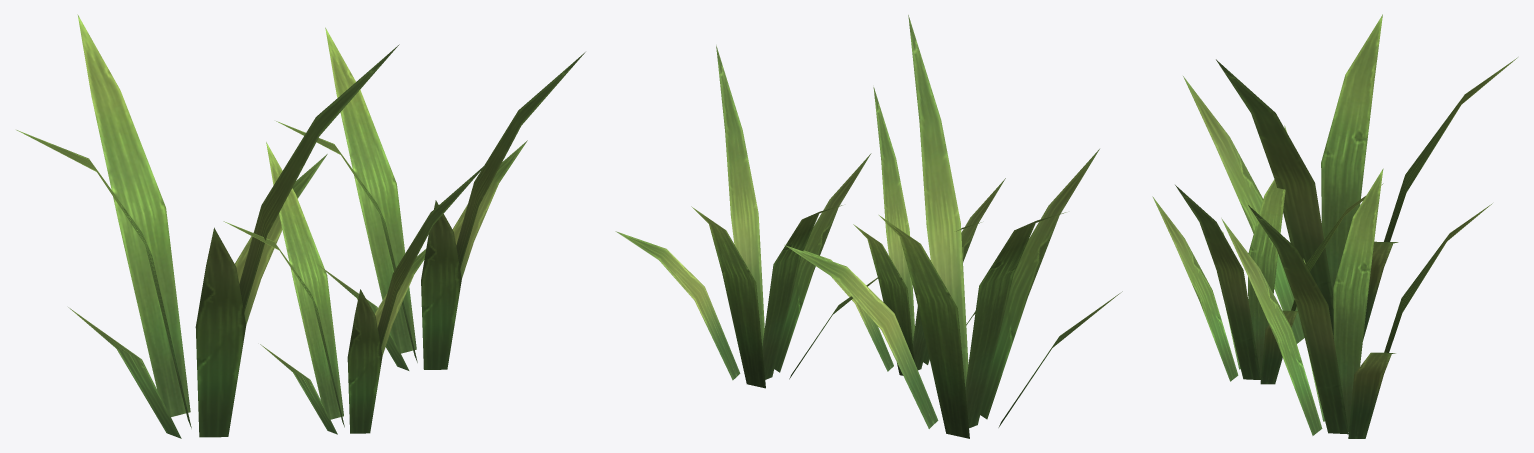
File: grass.obj
The picture shows the model from 3 angles, left to right: view 1: azimuth 30°, elevation 25°; view 2: azimuth 150°, elevation 25°; view 3: azimuth 270°, elevation 25°; orthographic projection. The views are drawn at different scales.
Parts seen in each view (by area): view 1: GrassE_ms1.001_Mesh.001; view 2: GrassE_ms1.001_Mesh.001; view 3: GrassE_ms1.001_Mesh.001.
Part boxes in pixels (left/top/right/bottom): GrassE_ms1.001_Mesh.001: left=16, top=14, right=585, bottom=438; GrassE_ms1.001_Mesh.001: left=615, top=15, right=1122, bottom=438; GrassE_ms1.001_Mesh.001: left=1152, top=14, right=1517, bottom=438.
Bounding box in the file's own units: 3.79 × 2.74 × 2.69.
